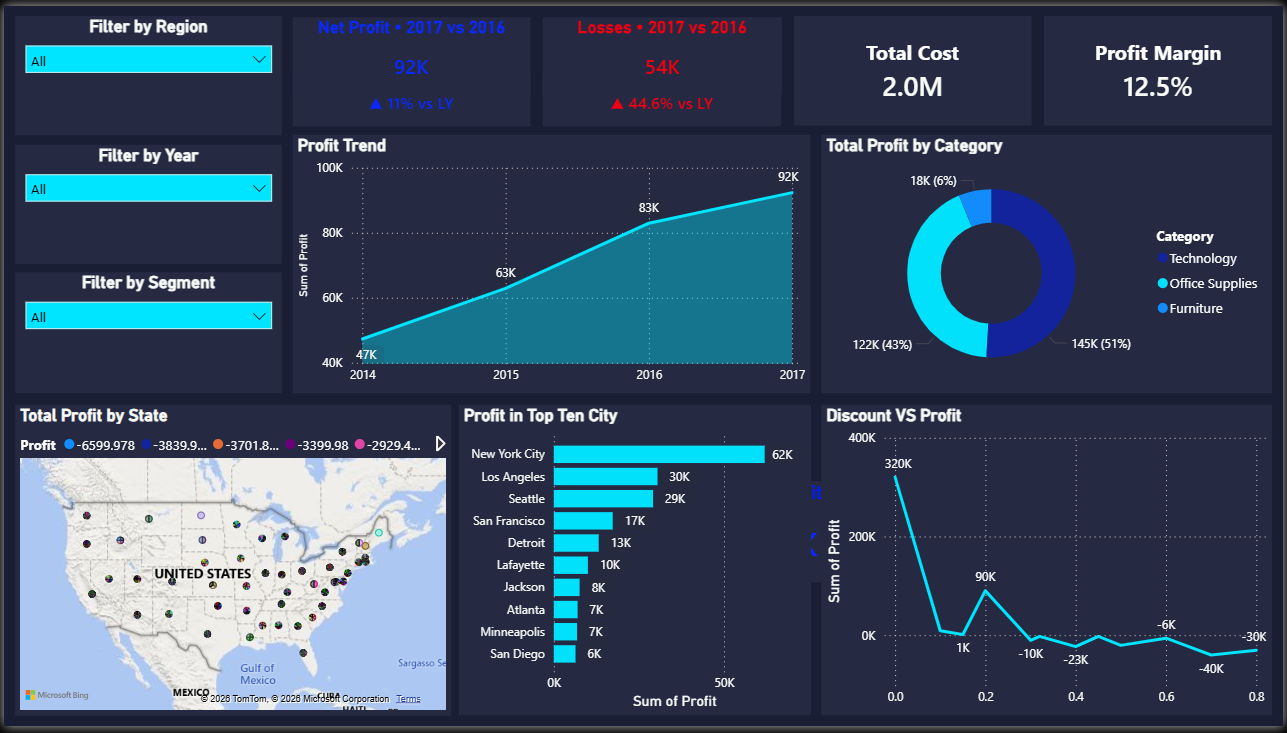

What the dashboard file says about the page in this screenshot:
{"tool":"powerbi","page":{"name":"Profitability Analysis","canvas":[1280,720],"ordinal":4},"visuals":[{"type":"donutChart","title":"Total Profit by Category","fields":{"Category":["Sample - Superstore.Category"],"Y":["Sum(Sample - Superstore.Profit)"]},"box":[818,129.1,450,258.2],"z":0},{"type":"cardVisual","title":"Net Profit","fields":{"Data":["Sum(Sample - Superstore.Profit)"]},"box":[658.7,474.8,237.4,101.5],"z":1000},{"type":"cardVisual","title":"Total Cost","fields":{"Data":["Sum(Sample - Superstore.Cost)"]},"box":[790.2,9.7,237.7,109.8],"z":2000},{"type":"cardVisual","title":"Profit Margin","fields":{"Data":["Sample - Superstore.Profitability"]},"box":[1040,9.7,228,109.8],"z":3000},{"type":"areaChart","title":"Profit Trend","fields":{"Category":["Sample - Superstore.Year"],"Y":["Sum(Sample - Superstore.Profit)"]},"box":[288.3,129.1,517.6,258.2],"z":4000},{"type":"slicer","title":"Filter by Region","fields":{"Values":["Sample - Superstore.Region"]},"box":[10.9,9.7,266.6,119.4],"z":5000},{"type":"lineChart","title":"Discount VS Profit","fields":{"Category":["Sample - Superstore.Discount"],"Y":["Sum(Sample - Superstore.Profit)"]},"box":[818,399.3,450,310.1],"z":6000},{"type":"map","title":"Total Profit by State","fields":{"Category":["Sample - Superstore.State"],"Series":["Sample - Superstore.Profit"]},"box":[10.9,399.3,435.5,310.1],"z":7000},{"type":"barChart","title":"Profit in Top Ten City","fields":{"Category":["Sample - Superstore.City"],"Y":["Sum(Sample - Superstore.Profit)"]},"box":[454.8,399.3,352.3,310.1],"z":8000},{"type":"slicer","title":"Filter by Year","fields":{"Values":["Sample - Superstore.Year"]},"box":[10.9,138.7,266.6,119.4],"z":9000},{"type":"slicer","title":"Filter by Segment","fields":{"Values":["Sample - Superstore.Segment"]},"box":[10.9,266.6,266.6,120.6],"z":10000},{"type":"cardVisual","fields":{"Data":["All Measures.Losses Current Year"]},"box":[538.8,10.9,239.1,76.5],"z":11000},{"type":"cardVisual","fields":{"Data":["Sample - Superstore.Net Profit Current Year"]},"box":[288.3,10.9,237.7,76],"z":12000},{"type":"cardVisual","title":"Total Cost","fields":{"Data":["Sample - Superstore.Growth Text"]},"box":[288.8,70,237.5,50],"z":13000},{"type":"cardVisual","fields":{"Data":["All Measures.Losses Growth Text"]},"box":[538.8,70,238.8,50],"z":14000}]}

Visuals, with their boxes in screenshot pixels (x1, y1, x2, y2), scaled from the page's 1280x720 canvas onto the 1287x733 screenshot:
"Total Profit by Category" donutChart: <box>822,131,1275,394</box>
"Net Profit" cardVisual: <box>662,483,901,587</box>
"Total Cost" cardVisual: <box>795,10,1034,122</box>
"Profit Margin" cardVisual: <box>1046,10,1275,122</box>
"Profit Trend" areaChart: <box>290,131,810,394</box>
"Filter by Region" slicer: <box>11,10,279,131</box>
"Discount VS Profit" lineChart: <box>822,407,1275,722</box>
"Total Profit by State" map: <box>11,407,449,722</box>
"Profit in Top Ten City" barChart: <box>457,407,812,722</box>
"Filter by Year" slicer: <box>11,141,279,263</box>
"Filter by Segment" slicer: <box>11,271,279,394</box>
cardVisual - All Measures.Losses Current Year: <box>542,11,782,89</box>
cardVisual - Sample - Superstore.Net Profit Current Year: <box>290,11,529,88</box>
"Total Cost" cardVisual: <box>290,71,529,122</box>
cardVisual - All Measures.Losses Growth Text: <box>542,71,782,122</box>
